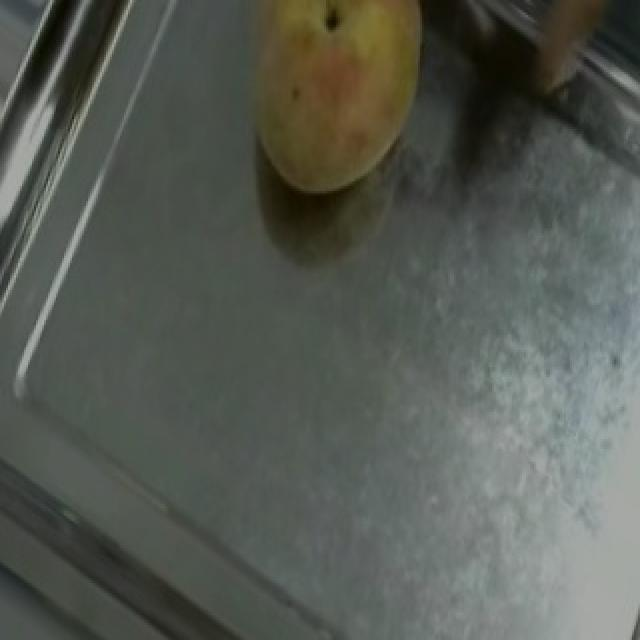Fruit: (198, 0, 458, 226)
